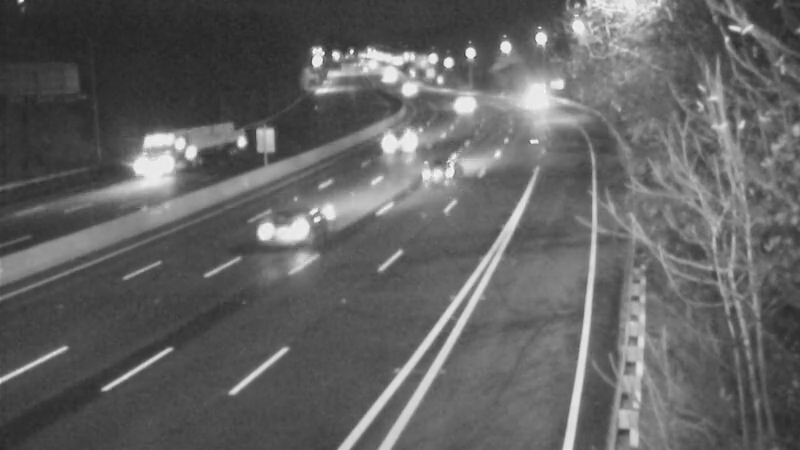vehicle: (396, 134, 476, 214), (231, 195, 311, 275), (123, 121, 203, 201), (389, 63, 439, 113), (436, 80, 486, 130), (508, 77, 558, 127), (371, 121, 421, 171)
